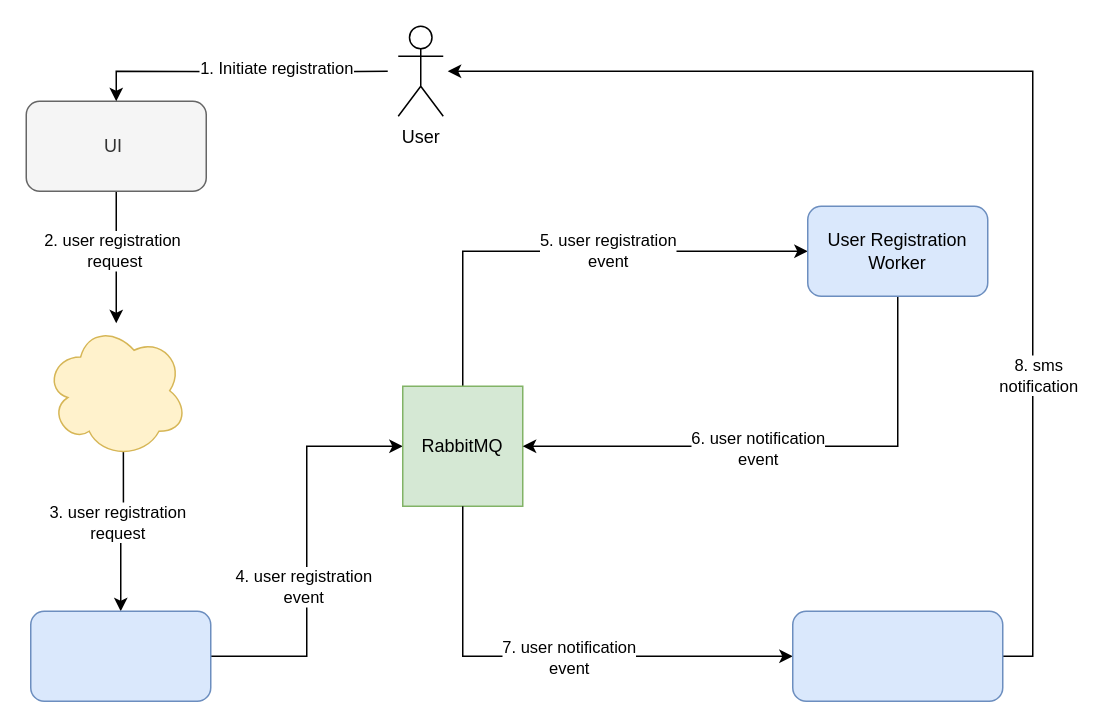
Image size: 1104x728. Some labels were removed from this diagram. The box of each missing label's shape, as (x1, y1, x2, y2) in pixels:
Gateway: (29, 610, 211, 701)
User Notification Worker: (791, 610, 1003, 701)
